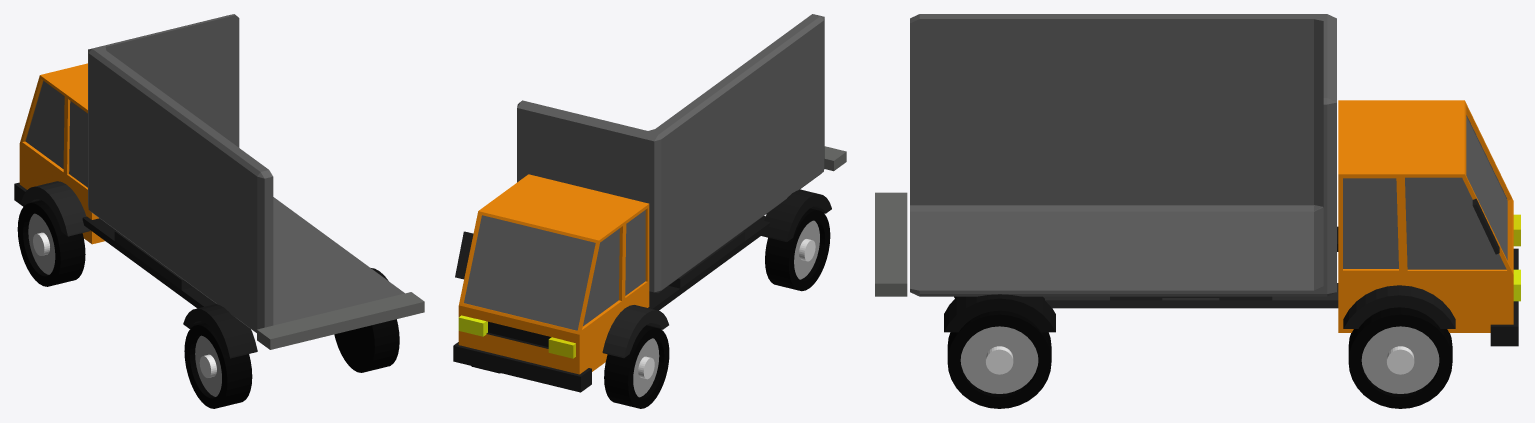
Rendered from finalTruck.glb.
3 renders of one model, left to right at view 1: azimuth 30°, elevation 25°; view 2: azimuth 150°, elevation 25°; view 3: azimuth 270°, elevation 25°, orthographic. The views are drawn at different scales.
Visible parts, largest first — view 1: Trailer, Cube.001, Wheels; view 2: Trailer, Cube.001, Wheels; view 3: Trailer, Cube.001, Wheels.
Part boxes in pixels (x1,y1,x2,y2): Trailer: (82, 14, 424, 349); Cube.001: (14, 63, 104, 286); Wheels: (183, 268, 399, 408); Trailer: (517, 14, 846, 310); Cube.001: (453, 174, 669, 408); Wheels: (761, 189, 831, 291); Trailer: (875, 14, 1338, 308); Cube.001: (1314, 100, 1520, 408); Wheels: (944, 294, 1055, 408).
Bounding box in the file's own units: 8.36 × 11.57 × 22.12.
